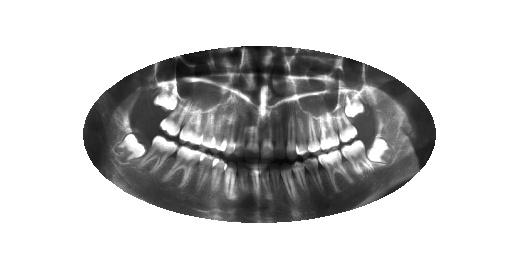i10decay: (238, 163, 248, 205)
i11decay: (225, 160, 237, 205)
i12healthy: (210, 158, 229, 194)
i13healthy: (198, 152, 219, 194)
i14healthy: (164, 145, 205, 192)
i15healthy: (139, 134, 177, 176)
i16healthy: (115, 130, 149, 165)
i1healthy: (364, 134, 395, 166)
i2healthy: (342, 140, 375, 180)
i3healthy: (317, 148, 349, 193)
i4healthy: (305, 157, 321, 198)
i5healthy: (292, 159, 309, 206)
i6decay: (280, 164, 294, 204)
i7decay: (271, 168, 280, 205)
i8decay: (260, 167, 271, 204)
i9healthy: (249, 166, 260, 204)
u10decay: (235, 115, 247, 159)
u11healthy: (225, 111, 235, 157)
u12healthy: (214, 111, 230, 154)
u13healthy: (200, 113, 218, 150)
u14healthy: (179, 107, 207, 146)
u15healthy: (160, 100, 192, 138)
u16healthy: (151, 82, 183, 113)
u1healthy: (342, 89, 364, 119)
u2healthy: (336, 106, 358, 143)
u3healthy: (320, 111, 341, 151)
u4healthy: (307, 113, 320, 154)
u5healthy: (295, 114, 309, 158)
u6healthy: (285, 110, 298, 161)
u7decay: (275, 109, 285, 162)
u8healthy: (261, 110, 275, 162)
u9decay: (246, 110, 260, 162)
